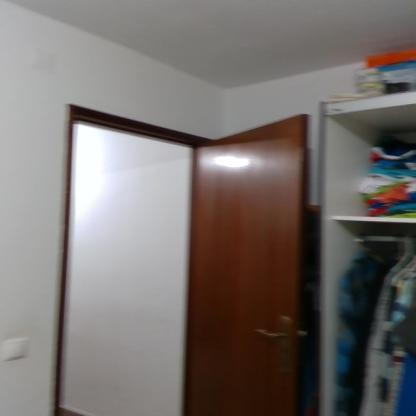open: (52, 91, 327, 416)
